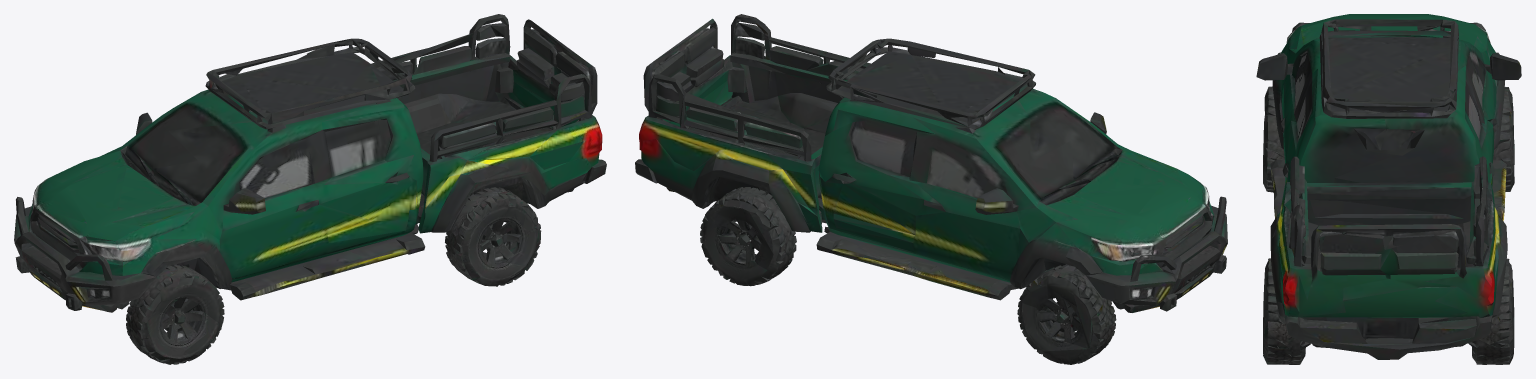
Rendered from Pickup_Truck.glb.
3 views of the same model, side by side, from view 1: azimuth 30°, elevation 25°; view 2: azimuth 150°, elevation 25°; view 3: azimuth 270°, elevation 25° (orthographic). The views are drawn at different scales.
Size of the model in its own units: 1.9 by 0.7083 by 0.7513.
1 material, 1 textured.
